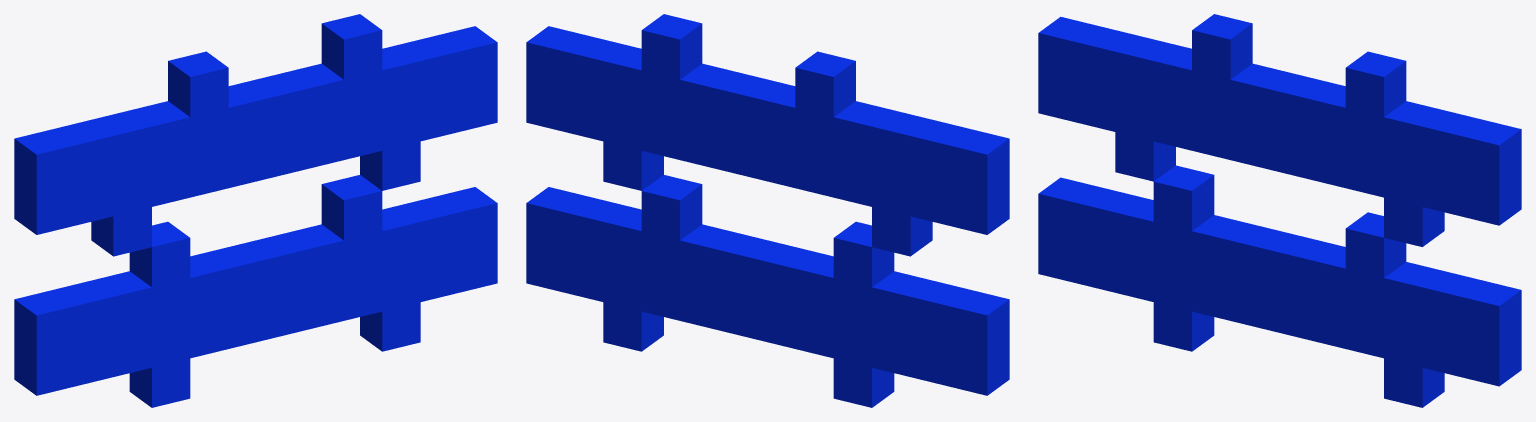
The model's file is MazeBlue2Stairs-2.vox.obj.
3 views of the same model, side by side, from view 1: azimuth 30°, elevation 25°; view 2: azimuth 150°, elevation 25°; view 3: azimuth 330°, elevation 25° (orthographic).
Size of the model in its own units: 1.2 by 0.8 by 0.1.
Materials: 1 (1 with a texture image).
